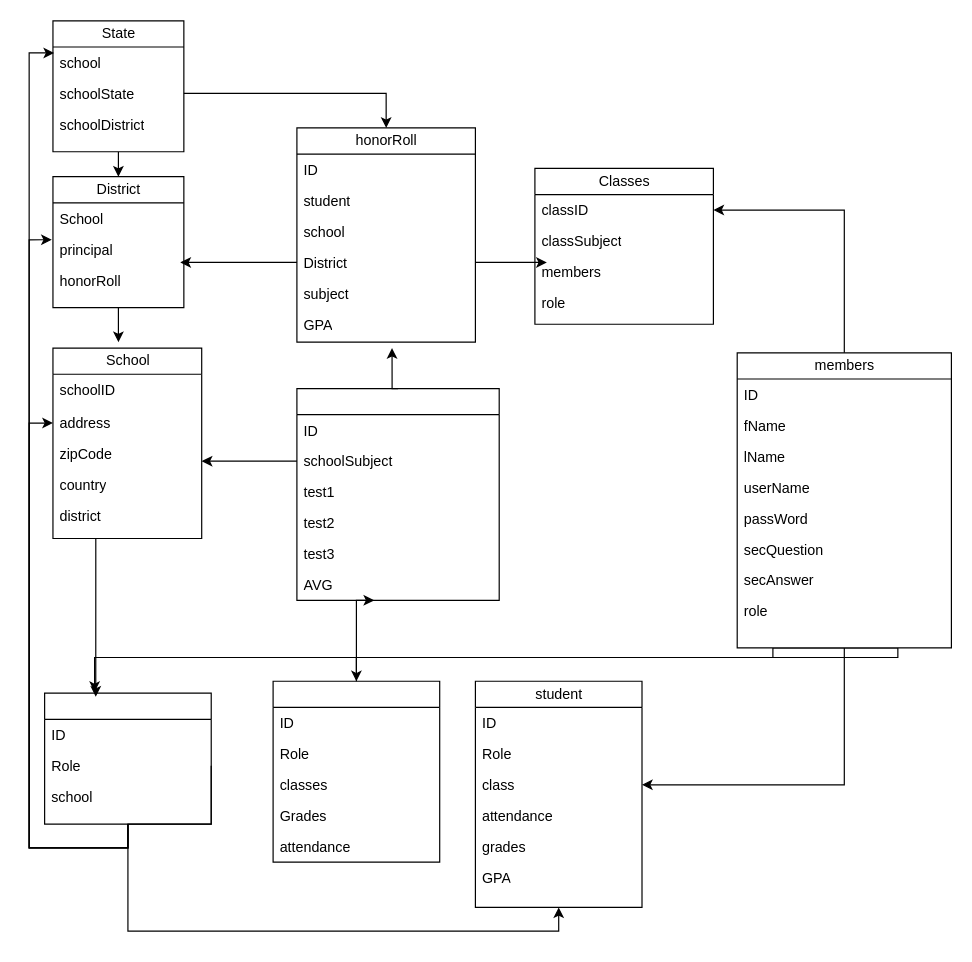
Some shapes in this 972 by 962 pixel diagram are drawn without their labels. Each missing label, with the box of its shape:
Grade: (296, 387, 499, 600)
Principals: (43, 692, 211, 824)
Teacher: (272, 680, 440, 862)
